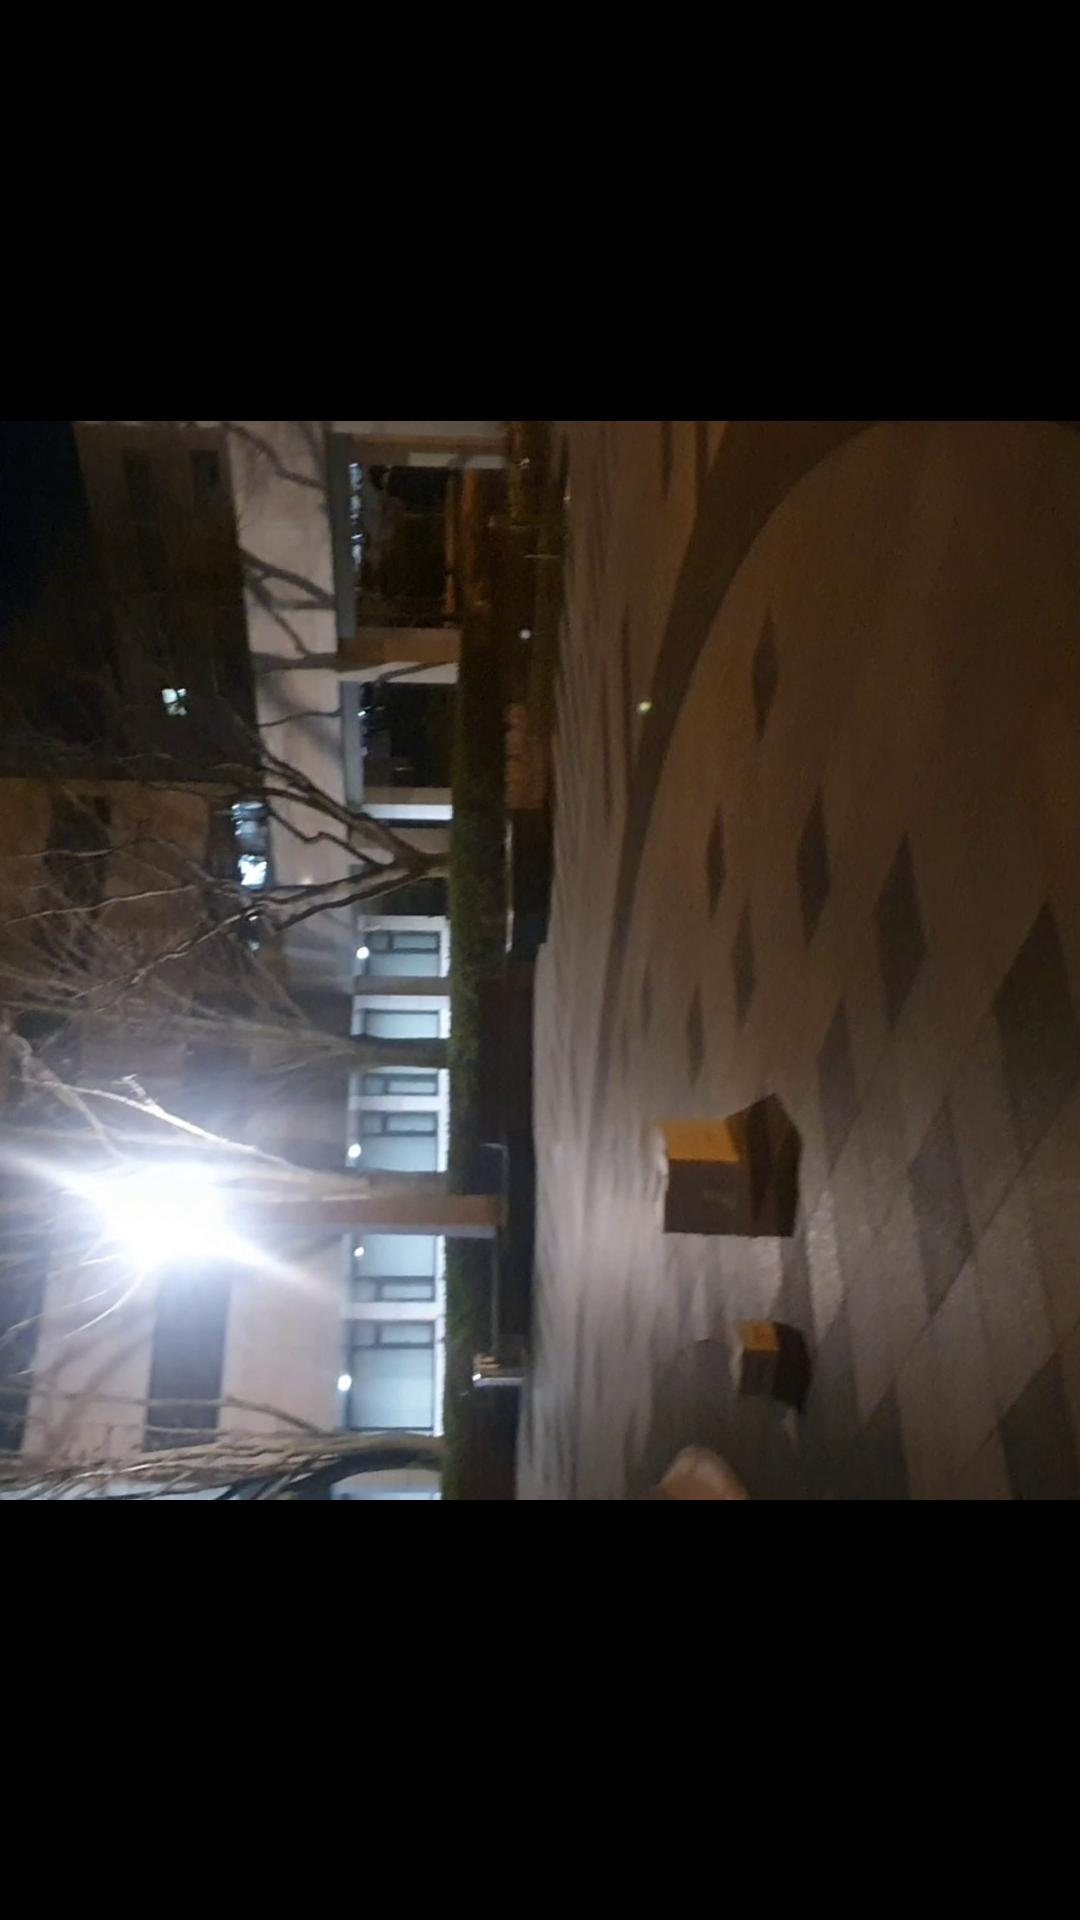Box: (645, 1113, 771, 1237), (720, 1331, 787, 1404)
